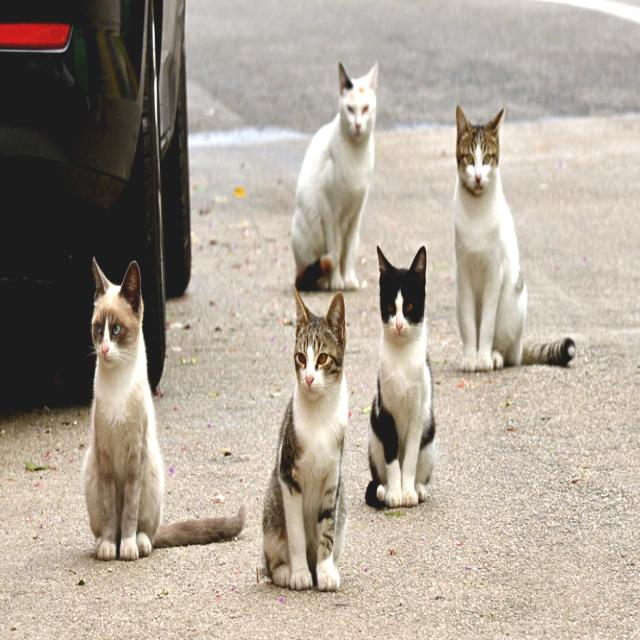cat: (82, 260, 246, 560), (454, 106, 575, 372), (262, 289, 348, 591), (291, 64, 378, 291), (365, 247, 436, 508)
